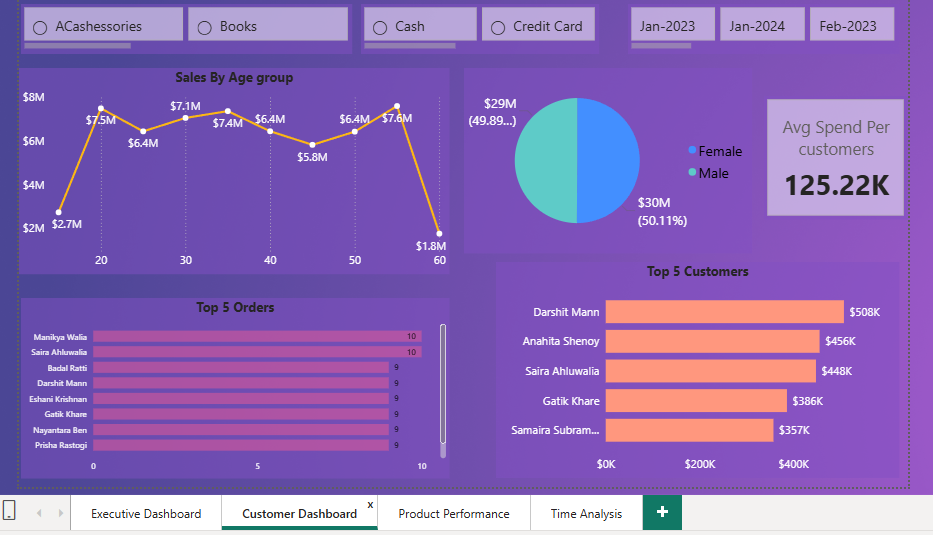

The dashboard page shown, as its layout file describes it:
{"tool":"powerbi","page":{"name":"Customer Dashboard","canvas":[1280,720],"ordinal":1},"visuals":[{"type":"lineChart","title":"Sales By Age group","fields":{"Y":["_All Measures.Total Sales"],"Category":["Sales.customer_age (bins)"]},"box":[0,116.2,620.3,297.4],"z":4000},{"type":"clusteredBarChart","title":"Top 5 Customers","fields":{"Category":["Sales.customer_name"],"Y":["_All Measures.Total Sales"]},"box":[687,396.5,581,311],"z":5000},{"type":"pieChart","title":"Sales By Product Category","fields":{"Y":["_All Measures.Total Sales"],"Category":["Sales.gender"]},"box":[640.9,116.2,415.3,266.6],"z":6000},{"type":"clusteredBarChart","title":"Top 5 Orders","fields":{"Y":["_All Measures.Total Orders"],"Category":["Sales.customer_name"]},"box":[3.4,447.7,616.9,259.8],"z":7000},{"type":"advancedSlicerVisual","fields":{"Values":["Sales.payment_mode"]},"box":[492.2,23.9,343.5,71.8],"z":7001},{"type":"advancedSlicerVisual","fields":{"Values":["Date.year month"]},"box":[876.7,23.9,391.3,71.8],"z":7002},{"type":"advancedSlicerVisual","fields":{"Values":["Sales.product_category"]},"box":[3.4,23.9,476.8,71.8],"z":7003},{"type":"cardVisual","fields":{"Data":["_All Measures.Avg Spend Per customers"]},"box":[1073.2,157.2,206.8,177.7],"z":7004}]}

Visuals, with their boxes on the page's 1280x720 design canvas (x1, y1, x2, y2). These are canvas units, not pixel positions in the 933x535 screenshot, which may show the page scaled, cropped or inside an application window:
"Sales By Age group" lineChart: select_region(0, 116, 620, 414)
"Top 5 Customers" clusteredBarChart: select_region(687, 396, 1268, 708)
"Sales By Product Category" pieChart: select_region(641, 116, 1056, 383)
"Top 5 Orders" clusteredBarChart: select_region(3, 448, 620, 708)
advancedSlicerVisual - Sales.payment_mode: select_region(492, 24, 836, 96)
advancedSlicerVisual - Date.year month: select_region(877, 24, 1268, 96)
advancedSlicerVisual - Sales.product_category: select_region(3, 24, 480, 96)
cardVisual - _All Measures.Avg Spend Per customers: select_region(1073, 157, 1280, 335)
